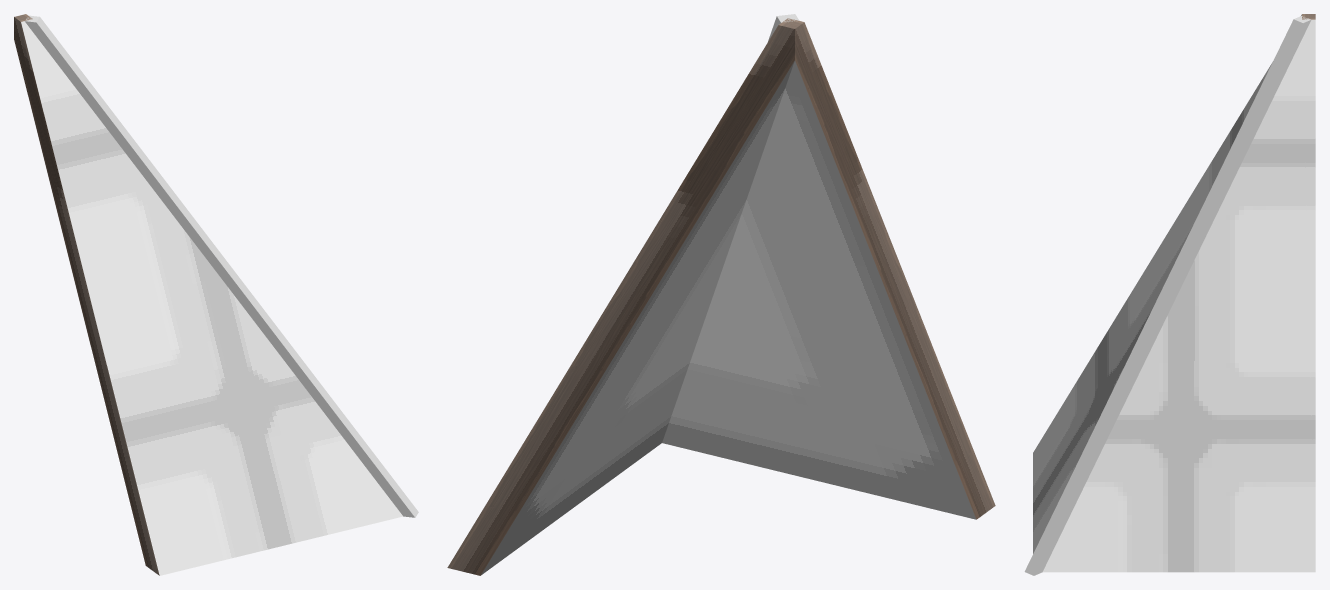
File: SM_Roof_Corner_05.fbx
3 renders of one model, left to right at view 1: azimuth 30°, elevation 25°; view 2: azimuth 150°, elevation 25°; view 3: azimuth 270°, elevation 25°, orthographic. The views are drawn at different scales.
Visible parts, largest first — view 1: SM_Roof_Corner_05_LOD0; view 2: SM_Roof_Corner_05_LOD0; view 3: SM_Roof_Corner_05_LOD0.
Part boxes in pixels (x1,y1,x2,y2): SM_Roof_Corner_05_LOD0: (14,14,418,575); SM_Roof_Corner_05_LOD0: (447,14,995,575); SM_Roof_Corner_05_LOD0: (1024,14,1315,575).
Size of what is drawn, in the model's own units: 5.41 by 9 by 5.41.
